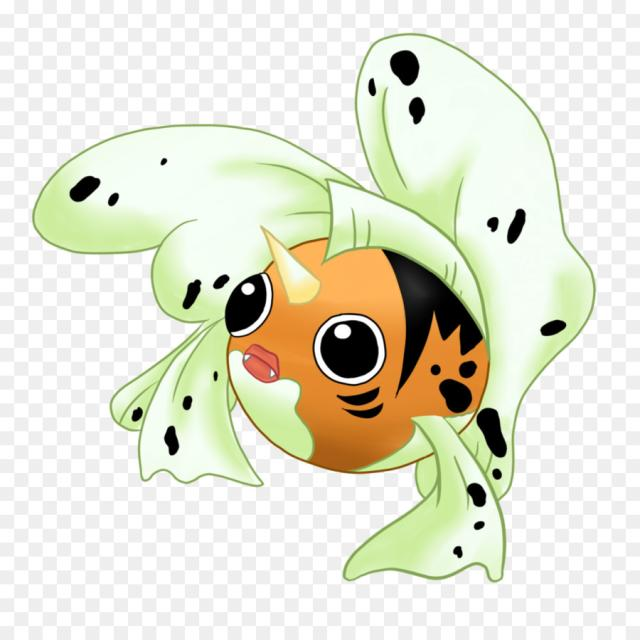Seaking: (204, 195, 506, 482)
